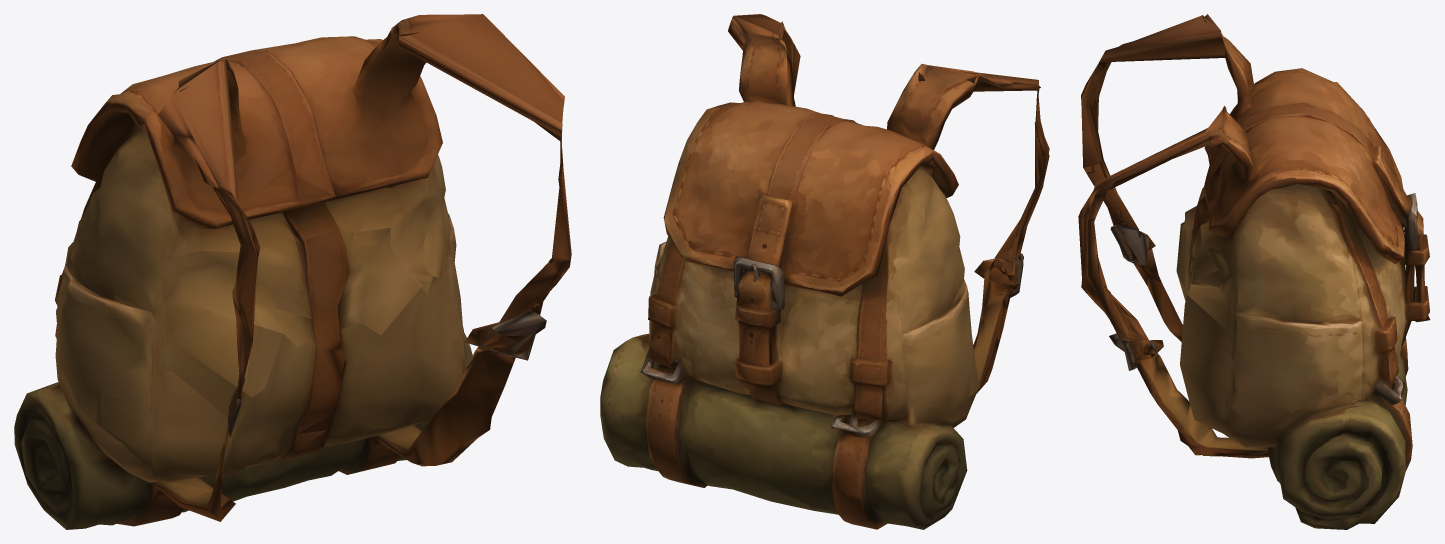
The model's file is large_pack.glb.
3 views of the same model, side by side, from view 1: azimuth 30°, elevation 25°; view 2: azimuth 150°, elevation 25°; view 3: azimuth 270°, elevation 25° (orthographic). The views are drawn at different scales.
Visible parts, largest first — view 1: large_pack; view 2: large_pack; view 3: large_pack.
Boxes of the visible parts, x1,y1,x2,y2 form: large_pack: (14,14,571,529); large_pack: (600,14,1049,529); large_pack: (1078,14,1430,529).
Bounding box in the file's own units: 0.4723 × 0.5657 × 0.4577.
Materials: 1 (1 with a texture image).
